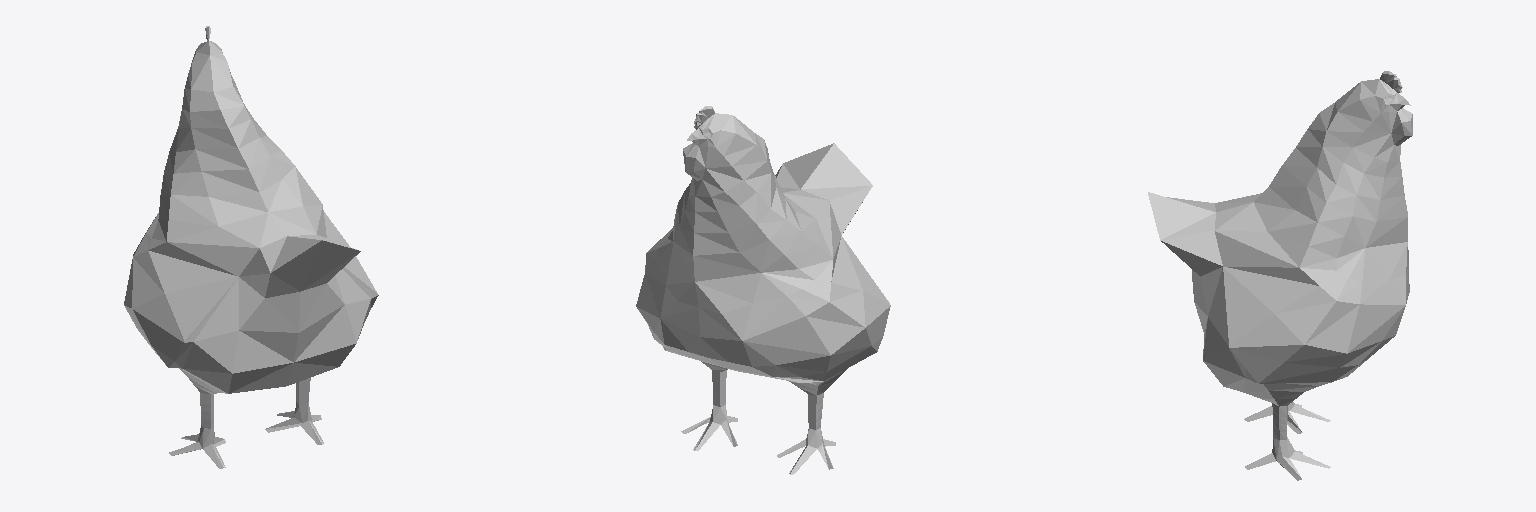
Rendered from frame7.obj.
The picture shows the model from 3 angles: view 1: azimuth 30°, elevation 25°; view 2: azimuth 150°, elevation 25°; view 3: azimuth 270°, elevation 25°; orthographic projection.
Visible parts, largest first — view 1: frame11:Chicken; view 2: frame11:Chicken; view 3: frame11:Chicken.
Part boxes in pixels (x1,y1,x2,y2): frame11:Chicken: (124, 26, 378, 468); frame11:Chicken: (636, 106, 890, 474); frame11:Chicken: (1148, 71, 1412, 480).
Size of the model in its own units: 2.14 by 3.49 by 2.22.